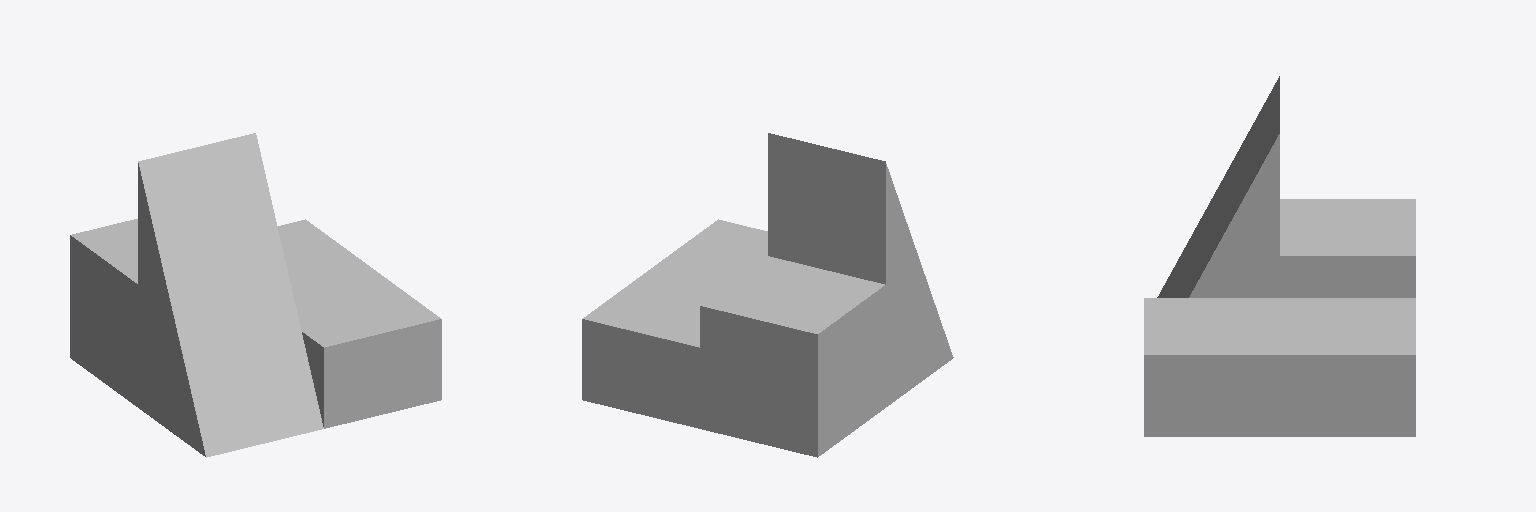
Rendered from TestObject3.obj.
3 renders of one model, left to right at view 1: azimuth 30°, elevation 25°; view 2: azimuth 150°, elevation 25°; view 3: azimuth 270°, elevation 25°, orthographic.
Parts seen in each view (by area): view 1: TestObject3; view 2: TestObject3; view 3: TestObject3.
Boxes of the visible parts, x1=… form: TestObject3: x1=70, y1=133, x2=441, y2=457; TestObject3: x1=582, y1=133, x2=953, y2=457; TestObject3: x1=1144, y1=76, x2=1415, y2=436.
Bounding box in the file's own units: 1 × 1 × 1.